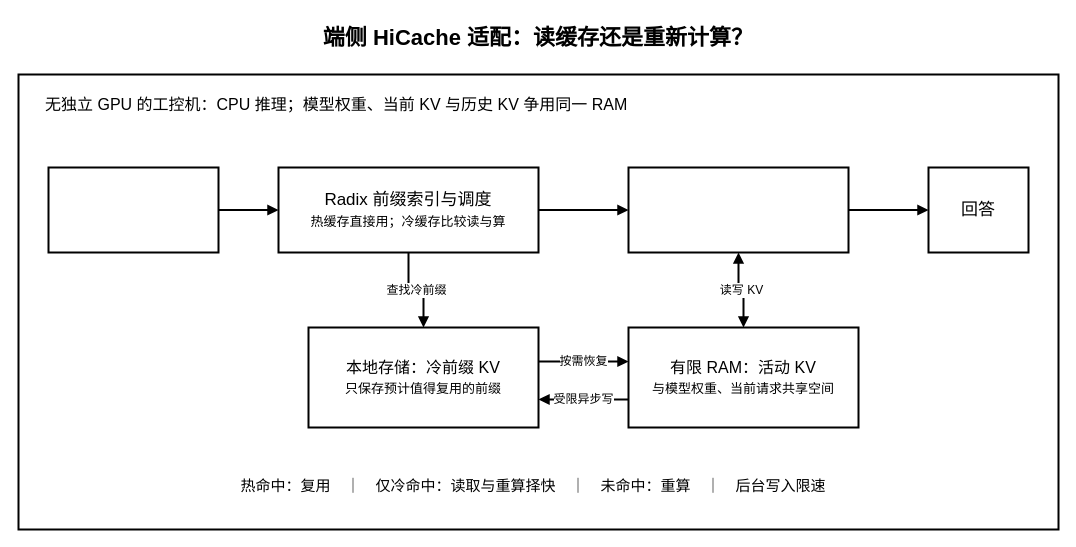
Some shapes in this 1076 by 547 pixel diagram are drawn without their labels. The shapes that lost their labels are listed below. From the top down, each one's centre as x and y in pixels, then its label:
At point 133,209: "再次提问 同一设备手册前缀".
At point 738,209: "CPU 推理 复用已就绪 KV 或重算前缀".
